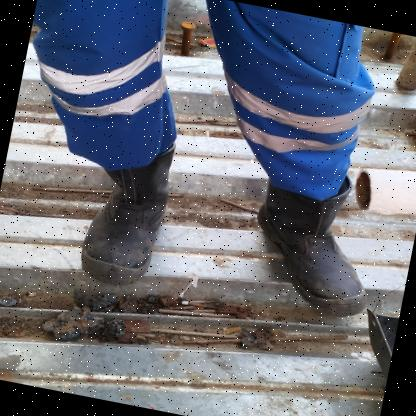bota: (234, 164, 392, 322), (63, 132, 180, 294)
